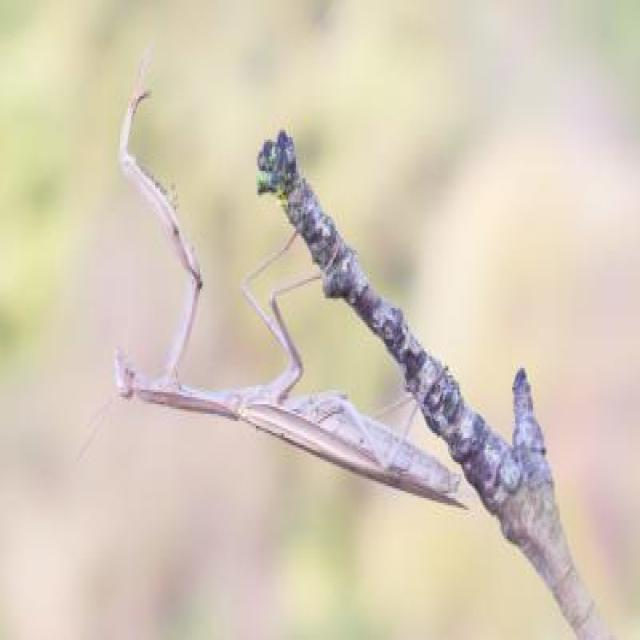antennae: (73, 395, 121, 461)
body: (111, 348, 460, 500)
insect: (74, 45, 467, 518)
legs: (119, 50, 200, 377), (317, 370, 450, 459), (236, 226, 300, 387), (273, 246, 339, 394), (372, 391, 414, 418)
mouthpart: (115, 350, 128, 365)
wings: (241, 399, 462, 506)
